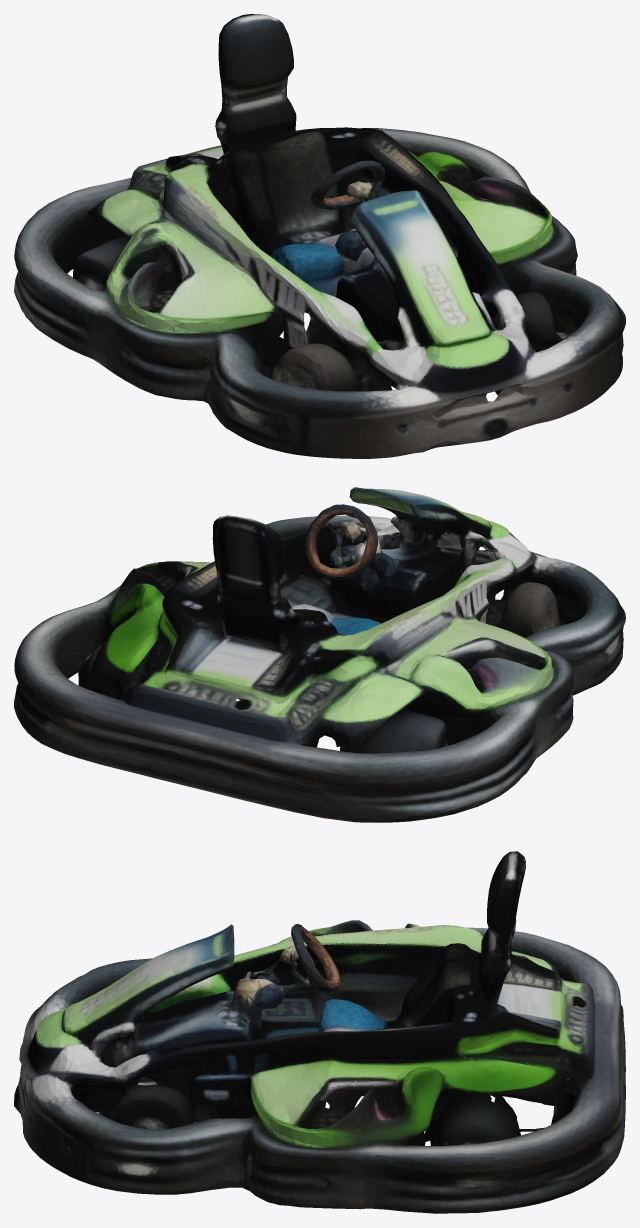
File: GoKart.glb
3 views of the same model, one above another, from view 1: azimuth 30°, elevation 25°; view 2: azimuth 150°, elevation 25°; view 3: azimuth 270°, elevation 25° (orthographic).
Parts seen in each view (by area): view 1: world; view 2: world; view 3: world.
Boxes of the visible parts, x1,y1,x2,y2 form: world: (14,14,625,458); world: (14,487,625,822); world: (14,851,625,1213).
Size of the model in its own units: 0.8866 by 0.4558 by 0.9734.
1 material, 1 textured.
